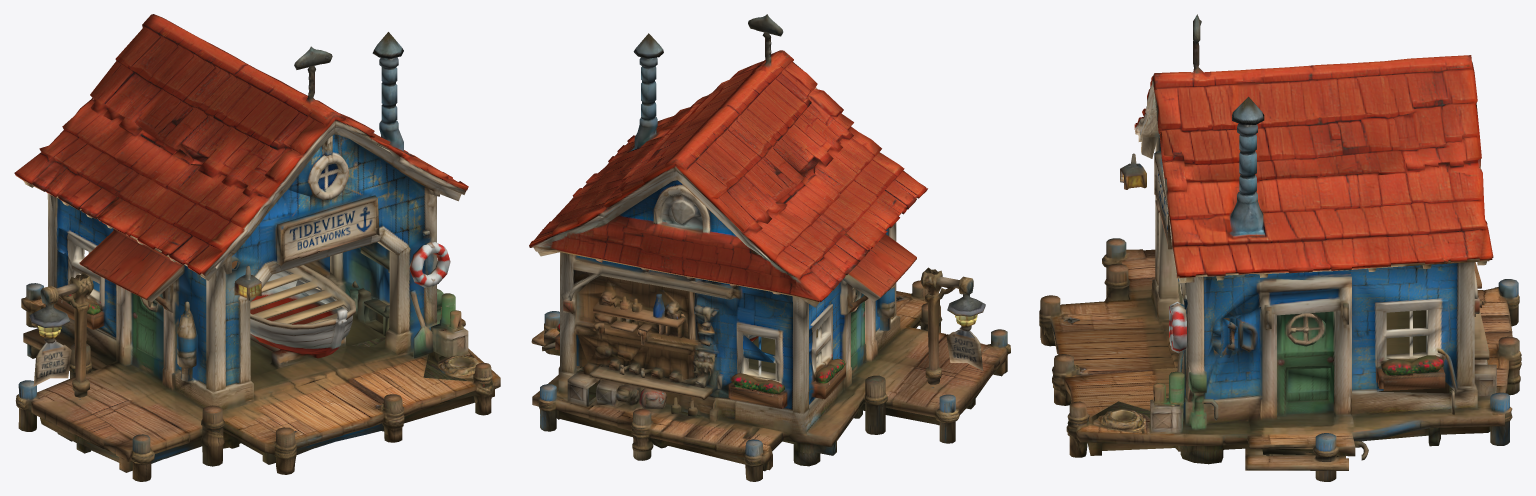
File: boathouse.glb
3 views of the same model, side by side, from view 1: azimuth 30°, elevation 25°; view 2: azimuth 150°, elevation 25°; view 3: azimuth 270°, elevation 25° (orthographic). The views are drawn at different scales.
Parts seen in each view (by area): view 1: tripo_node_045cac55-1d9c-4677-b436-12eebe7b9a6b; view 2: tripo_node_045cac55-1d9c-4677-b436-12eebe7b9a6b; view 3: tripo_node_045cac55-1d9c-4677-b436-12eebe7b9a6b.
Boxes of the visible parts, x1=… form: tripo_node_045cac55-1d9c-4677-b436-12eebe7b9a6b: x1=14, y1=14, x2=500, y2=481; tripo_node_045cac55-1d9c-4677-b436-12eebe7b9a6b: x1=529, y1=14, x2=1010, y2=481; tripo_node_045cac55-1d9c-4677-b436-12eebe7b9a6b: x1=1039, y1=14, x2=1521, y2=481.
Size of the model in its own units: 0.9805 by 0.7771 by 0.8846.
Materials: 1 (1 with a texture image).
